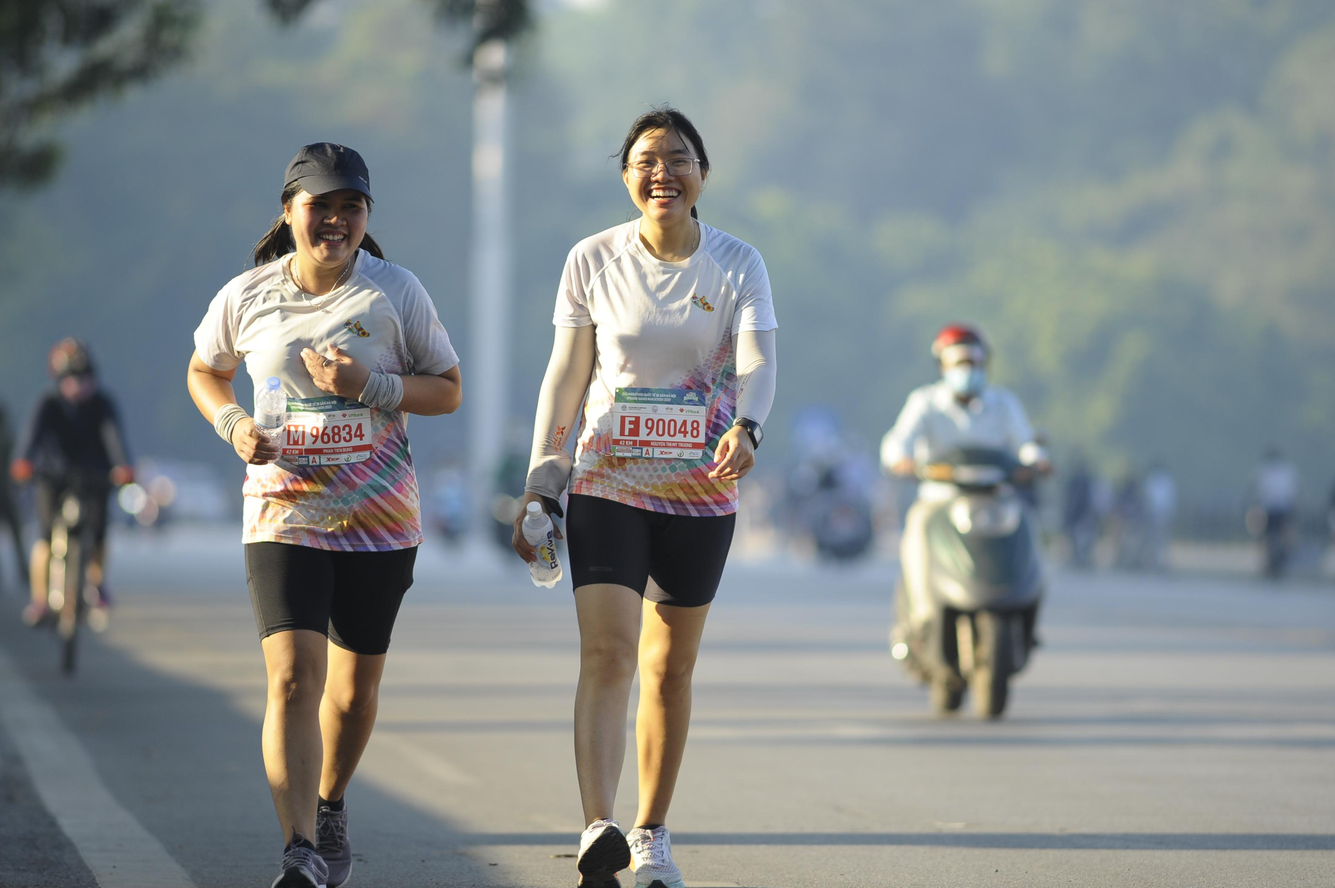bib: (611, 387, 704, 459), (285, 396, 374, 465)
